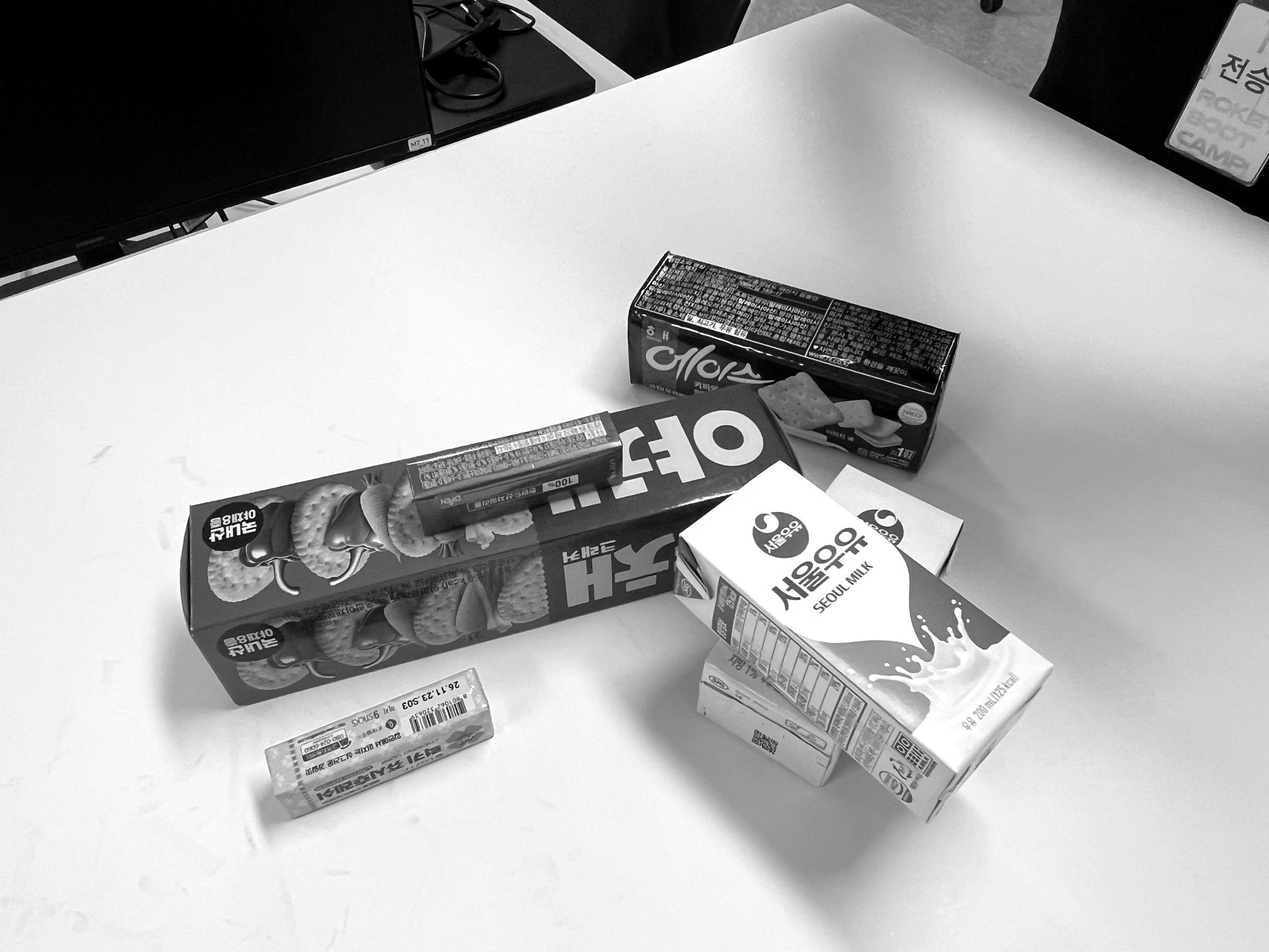cracker_ace: (628, 253, 959, 472)
cracker_vege: (181, 388, 798, 705)
gum_green: (678, 463, 1052, 818), (409, 411, 623, 537)
gum_yellow: (267, 668, 493, 816)
